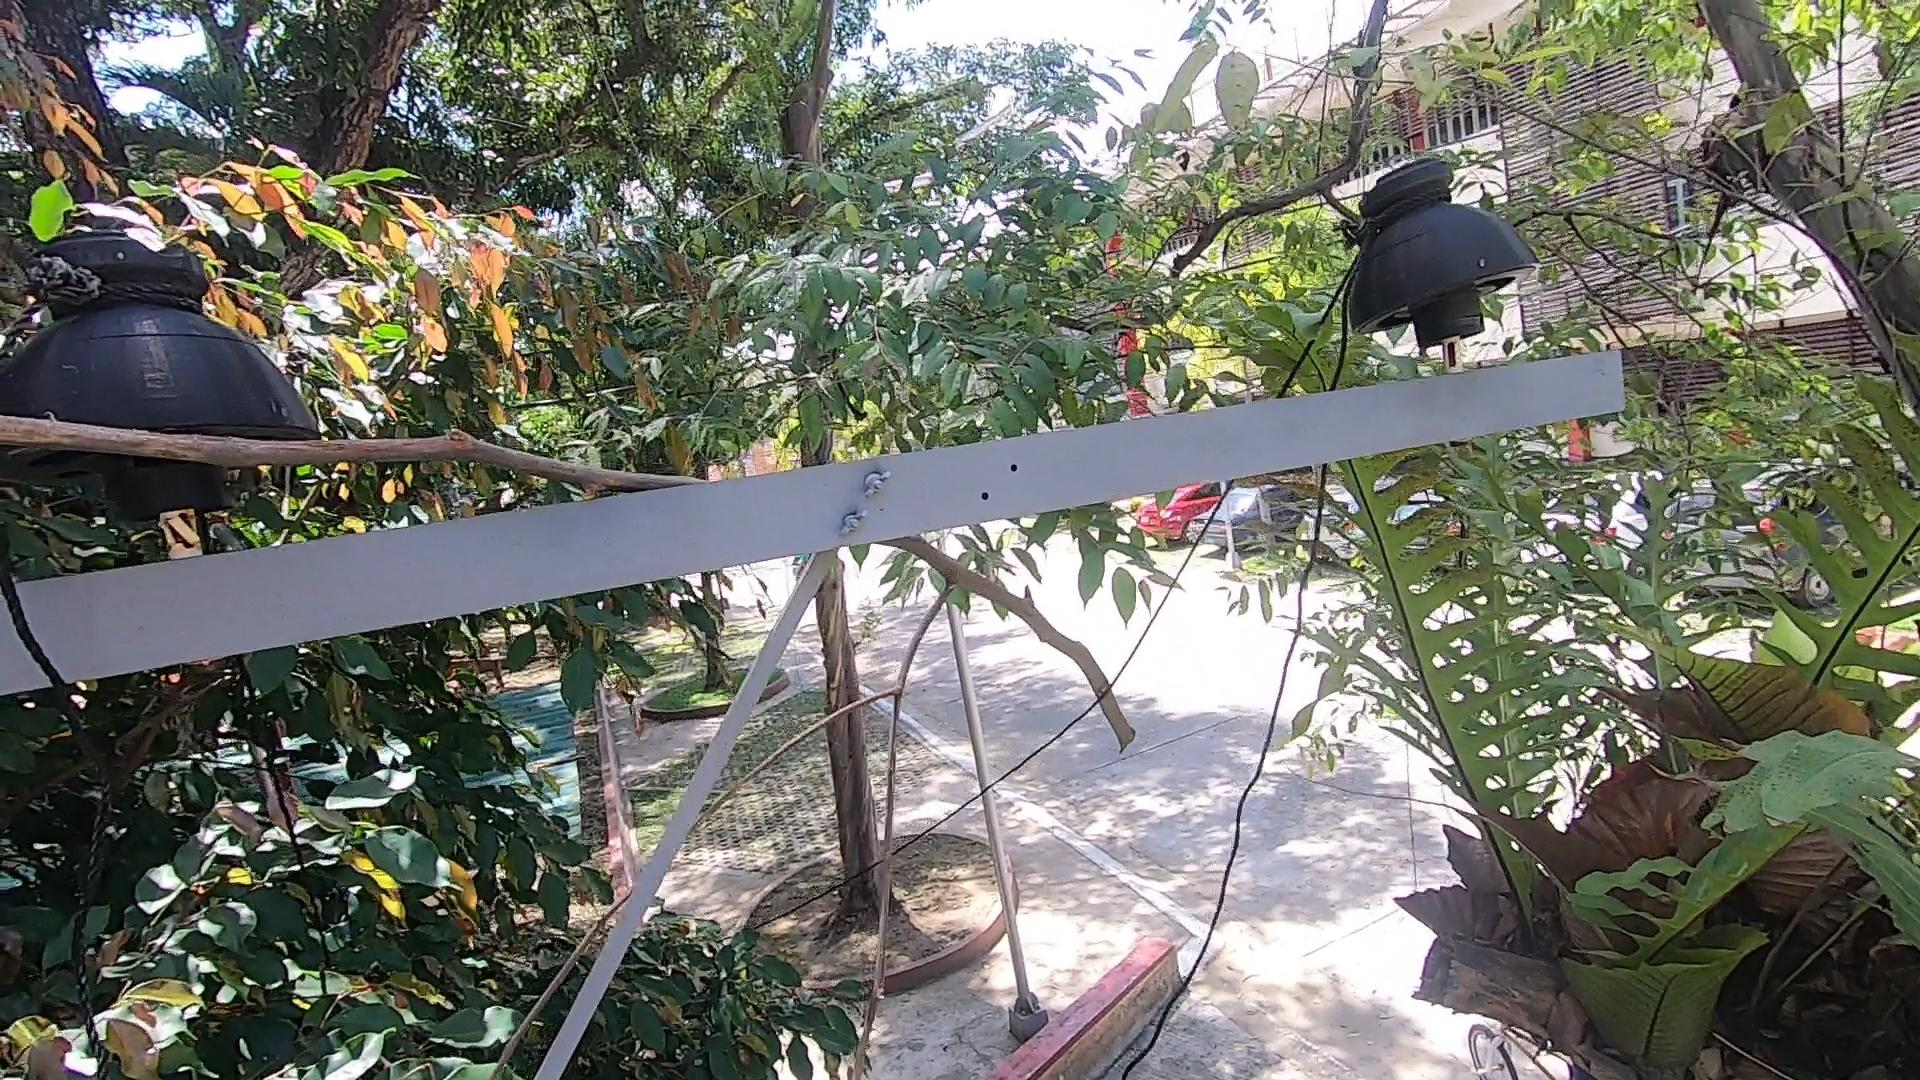tree branch: (471, 525, 1143, 1080), (3, 402, 711, 512)
